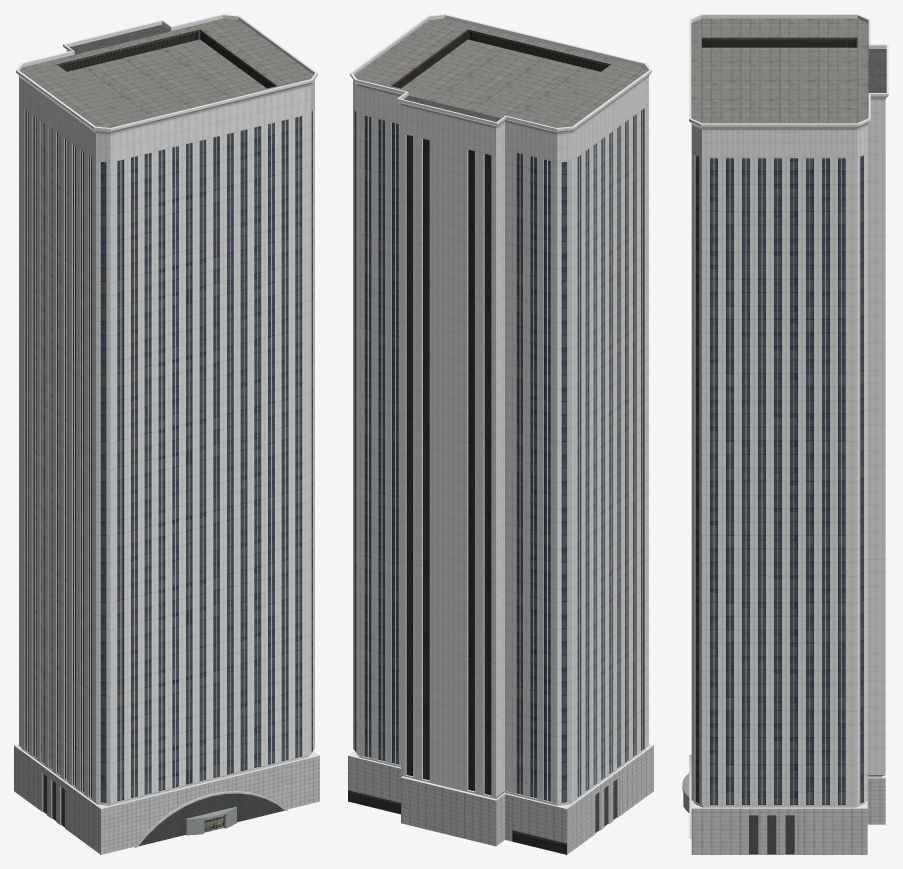
Rendered from office-l9.glb.
The picture shows the model from 3 angles, left to right: view 1: azimuth 30°, elevation 25°; view 2: azimuth 150°, elevation 25°; view 3: azimuth 270°, elevation 25°; orthographic projection.
Visible parts, largest first — view 1: torrepicasso_torrepicasso_0; view 2: torrepicasso_torrepicasso_0; view 3: torrepicasso_torrepicasso_0.
Boxes of the visible parts, x1,y1,x2,y2 form: torrepicasso_torrepicasso_0: (14, 14, 319, 854); torrepicasso_torrepicasso_0: (348, 14, 653, 854); torrepicasso_torrepicasso_0: (682, 14, 888, 854).
Size of the model in its own units: 51.15 by 158 by 40.43.
1 material, 1 textured.
